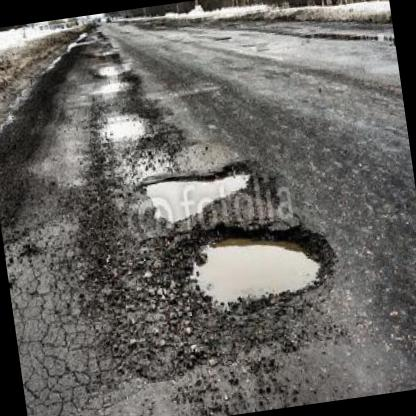pothole: (169, 204, 340, 318), (136, 155, 262, 228), (96, 107, 148, 148), (92, 74, 133, 96), (95, 60, 128, 77)
